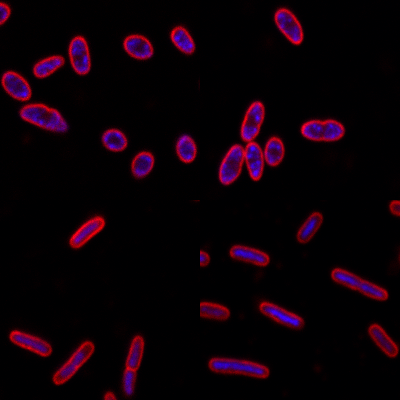Mecillinam: (272, 7, 306, 47), (216, 143, 246, 188), (239, 98, 267, 143), (298, 117, 346, 143), (1, 69, 32, 101), (68, 33, 91, 76), (243, 139, 266, 182), (121, 34, 154, 60), (31, 55, 65, 80), (168, 26, 196, 56), (263, 137, 286, 169), (100, 127, 129, 152)
Oblique: (121, 332, 146, 400), (18, 102, 69, 135), (174, 133, 198, 165), (129, 150, 154, 180)
Rifampicin: (51, 338, 96, 386), (331, 265, 389, 302), (206, 354, 269, 379), (258, 299, 305, 331), (68, 214, 105, 250), (8, 330, 53, 357), (366, 323, 399, 359), (294, 211, 325, 244), (226, 244, 270, 267)
